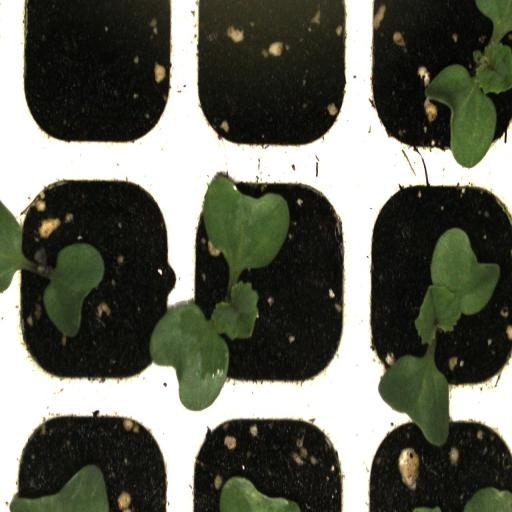noseedling: (6, 0, 185, 171), (183, 0, 358, 173)
seedling: (178, 170, 356, 409), (5, 166, 183, 399), (357, 165, 512, 411), (358, 2, 512, 172)
